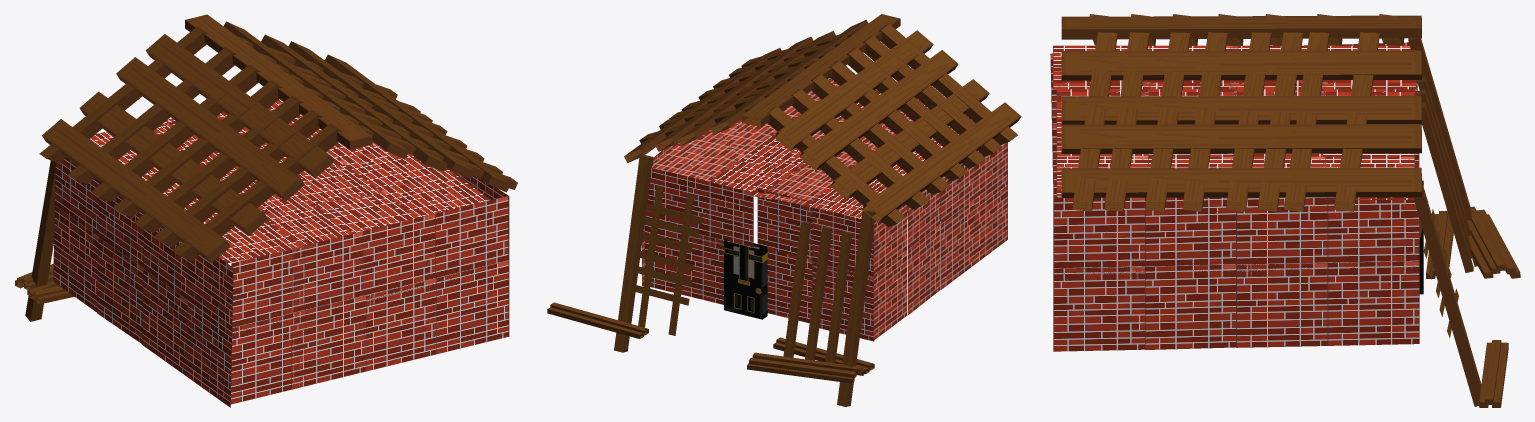
File: Drew_House_Textures.fbx
3 views of the same model, side by side, from view 1: azimuth 30°, elevation 25°; view 2: azimuth 150°, elevation 25°; view 3: azimuth 270°, elevation 25° (orthographic). The views are drawn at different scales.
Visible parts, largest first — view 1: Plane.007, Plane.068, Plane.104, Plane.009, Plane.103, Plane.006, Plane.008, Plane.027, Plane.024, Plane.026, Plane.025, Plane.053 (+37 smaller); view 2: Plane.068, Plane.104, Plane.103, Plane.005, Plane, Plane.053, Plane.076, Plane.004, Plane.075, Plane.069, Plane.028, Plane.003 (+41 smaller); view 3: Plane.071, Plane.070, Plane.072, Plane.102, Plane.013, Plane.012, Plane.011, Plane.010, Plane.053, Plane.023, Plane.021, Plane.020 (+28 smaller).
Boxes of the visible parts, x1,y1,x2,y2 form: Plane.007: (291,295,366,389); Plane.068: (116,57,304,201); Plane.104: (42,119,230,263); Plane.009: (436,260,508,354); Plane.103: (146,34,334,177); Plane.006: (362,213,435,306); Plane.008: (363,278,436,371); Plane.027: (230,310,305,404); Plane.024: (435,196,508,286); Plane.026: (231,246,304,338); Plane.025: (292,231,365,313); Plane.053: (185,14,372,149); Plane.068: (799,50,958,170); Plane.104: (862,102,1021,223); Plane.103: (774,30,933,151); Plane.005: (688,176,753,249); Plane: (724,239,767,319); Plane.053: (741,14,900,127); Plane.076: (614,155,653,352); Plane.004: (757,188,819,259); Plane.075: (837,210,876,406); Plane.069: (830,79,989,199); Plane.028: (681,233,746,304); Plane.003: (767,248,812,323); Plane.071: (1061,124,1421,153); Plane.070: (1061,50,1421,80); Plane.072: (1061,167,1421,197); Plane.102: (1061,95,1421,124); Plane.013: (1327,261,1419,345); Plane.012: (1236,263,1327,347); Plane.011: (1145,264,1236,349); Plane.010: (1053,266,1144,351); Plane.053: (1061,16,1421,38); Plane.023: (1053,197,1144,280); Plane.021: (1236,197,1327,276); Plane.020: (1327,197,1419,274).
Bounding box in the file's own units: 754 × 566 × 760.
Materials: 97 (97 with a texture image).
